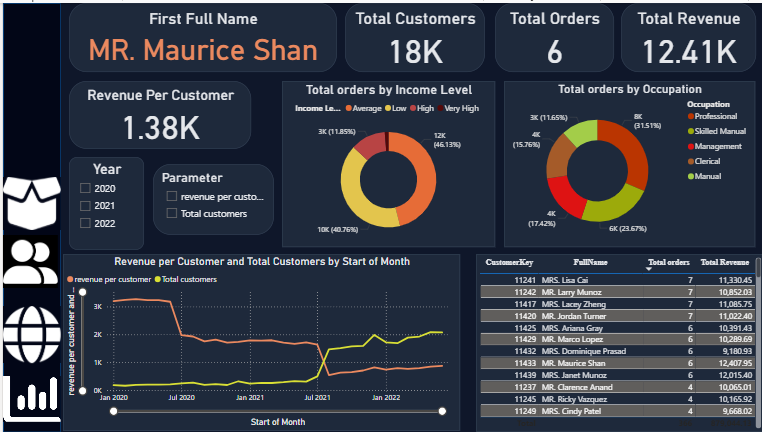

This screenshot's page, from the dashboard's own definition file:
{"tool":"powerbi","page":{"name":"Customer analysis","canvas":[1280,720],"ordinal":5},"visuals":[{"type":"donutChart","fields":{"Category":["Customer Lookup.Income Level"],"Y":["Measure table.Total orders"]},"box":[468.7,137.7,446.8,265.4],"z":0},{"type":"donutChart","fields":{"Category":["Customer Lookup.Occupation"],"Y":["Measure table.Total orders"]},"box":[927.2,131,336,278.8],"z":1000},{"type":"tableEx","fields":{"Values":["Customer Lookup.CustomerKey","Customer Lookup.FullName","Measure table.Total orders","Measure table.Total Revenue"]},"box":[794.5,421.6,485.5,299],"z":2000},{"type":"slicer","title":"Year","fields":{"Values":["Calendar Lookup.Year"]},"box":[120.9,245.2,126,156.2],"z":3000},{"type":"card","title":"Revenue Per Customer","fields":{"Values":["Measure table.revenue per customer"]},"box":[110.9,131,305.7,114.2],"z":4000},{"type":"card","title":"Total Customers","fields":{"Values":["Measure table.Total customers"]},"box":[591.3,0,235.2,115.9],"z":5000},{"type":"card","title":"First Full Name","fields":{"Values":["Min(Customer Lookup.FullName)"]},"box":[100.8,0,473.7,115.9],"z":6000},{"type":"card","title":"Total Orders","fields":{"Values":["Measure table.Total orders"]},"box":[826.5,0,199.9,115.9],"z":7000},{"type":"card","title":"Total Revenue","fields":{"Values":["Measure table.Total Revenue"]},"box":[1026.4,0,226.8,115.9],"z":8000},{"type":"actionButton","box":[0,0,100,40],"z":9000},{"type":"slicer","title":"Parameter","fields":{"Values":["Parameter.Parameter"]},"box":[263.7,273.8,201.6,127.7],"z":10000},{"type":"lineChart","fields":{"Category":["Calendar Lookup.Custom Date Hierarchy.Start of Month","Calendar Lookup.Custom Date Hierarchy.Start of Quarter","Calendar Lookup.Custom Date Hierarchy.Start of Week","Calendar Lookup.Custom Date Hierarchy.Start of Year"],"Y":["Measure table.revenue per customer","Measure table.Total customers"]},"box":[100.8,421.6,666.9,297.3],"z":11000},{"type":"shape","box":[0,0,97.4,721.2],"z":12000},{"type":"actionButton","box":[0,626.6,97.4,77.3],"z":13000},{"type":"actionButton","box":[0,525.8,97.4,89],"z":14000},{"type":"actionButton","box":[0,403.1,97.4,95.7],"z":15000}]}

Visuals, with their boxes in screenshot pixels (x1, y1, x2, y2), scaled from the page's 1280x720 canvas onto the 762x432 screenshot:
donutChart - Customer Lookup.Income Level x Measure table.Total orders: [279,83,545,242]
donutChart - Customer Lookup.Occupation x Measure table.Total orders: [552,79,752,246]
tableEx - Customer Lookup.CustomerKey x Customer Lookup.FullName: [473,253,761,431]
"Year" slicer: [72,147,147,241]
"Revenue Per Customer" card: [66,79,248,147]
"Total Customers" card: [352,0,492,70]
"First Full Name" card: [60,0,342,70]
"Total Orders" card: [492,0,611,70]
"Total Revenue" card: [611,0,746,70]
actionButton: [0,0,60,24]
"Parameter" slicer: [157,164,277,241]
lineChart - Calendar Lookup.Custom Date Hierarchy.Start of Month x Calendar Lookup.Custom Date Hierarchy.Start of Quarter: [60,253,457,431]
shape: [0,0,58,431]
actionButton: [0,376,58,422]
actionButton: [0,315,58,369]
actionButton: [0,242,58,299]
